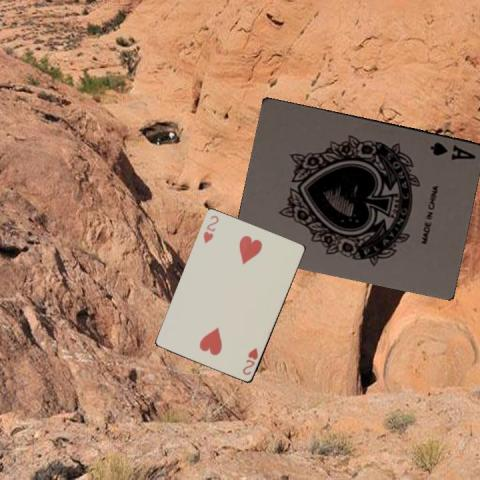2h: (240, 345, 260, 377), (201, 213, 220, 245)
As: (427, 139, 478, 161)
